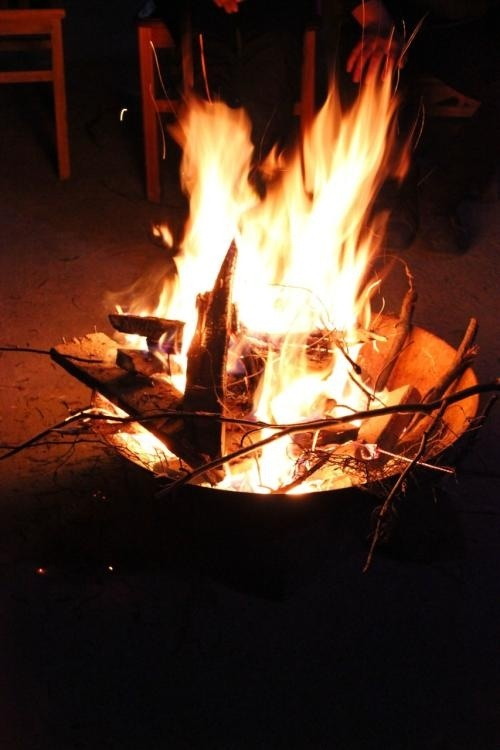fire: (120, 66, 423, 496)
